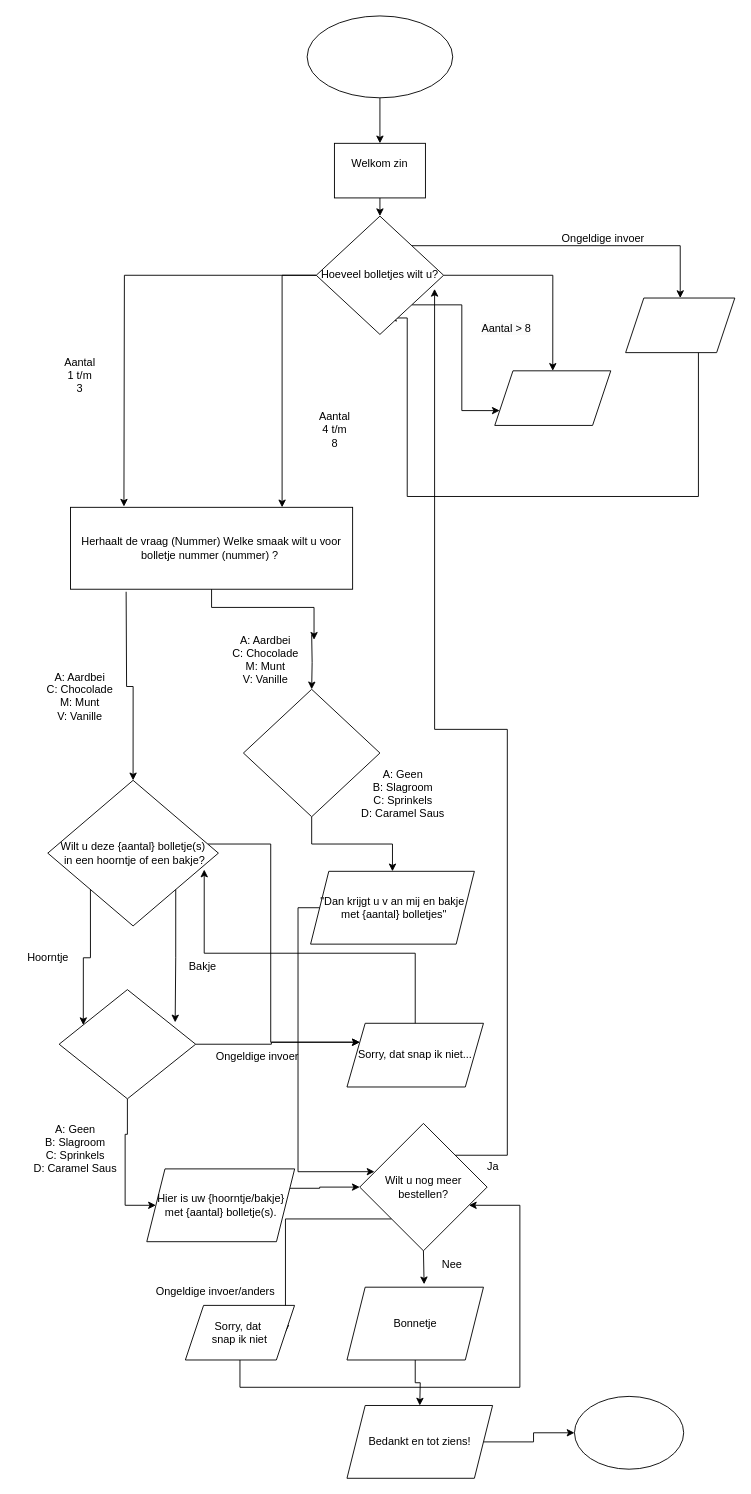
This 751x1494 diagram has some shape labels left out. Here are the shapes that lost their labels. From the top down, the centre of each, then its label:
At point 379,56: "Start".
At point 680,325: "sorry dat snap ik niet".
At point 552,397: "Sorry, zulke grote bakken hebben we niet.".
At point 311,752: "Wat voor topping wilt u".
At point 127,1044: "Wat voor topping wilt u?".
At point 629,1432: "Einde".
